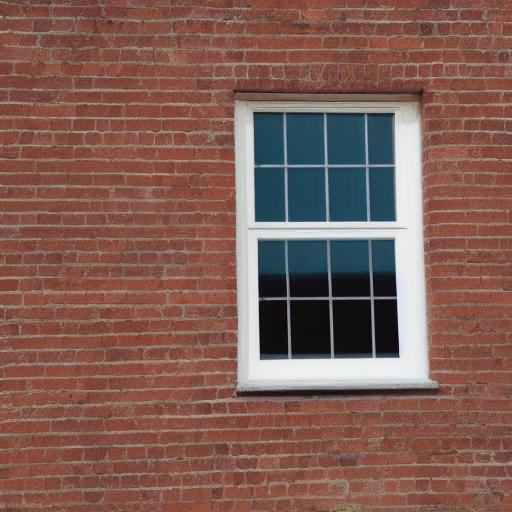Window: (237, 85, 441, 397)
